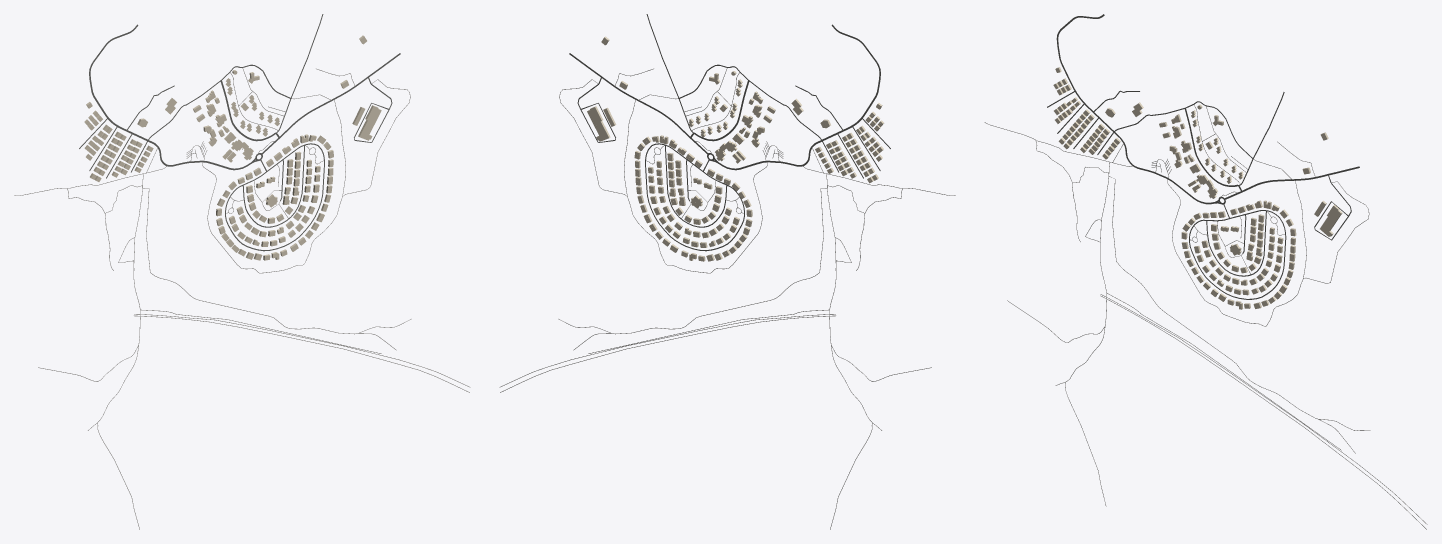
The model's file is historic-palestine-08_24_3498_3186.glb.
3 renders of one model, left to right at view 1: azimuth 30°, elevation 25°; view 2: azimuth 150°, elevation 25°; view 3: azimuth 330°, elevation 25°, orthographic. The views are drawn at different scales.
Visible parts, largest first — view 1: Road ערבה; view 2: Road ערבה; view 3: Road ערבה.
Part boxes in pixels (left/top/right/bottom): Road ערבה: left=89, top=24, right=251, bottom=170; Road ערבה: left=718, top=24, right=880, bottom=170; Road ערבה: left=1056, top=14, right=1215, bottom=204.
Bounding box in the file's own units: 1448 × 1535 × 8.7.
